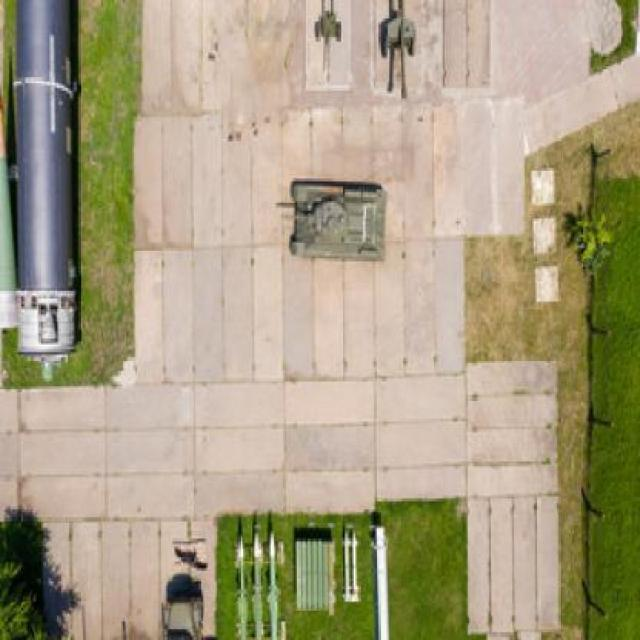MIL_MBT: (276, 178, 393, 262)
